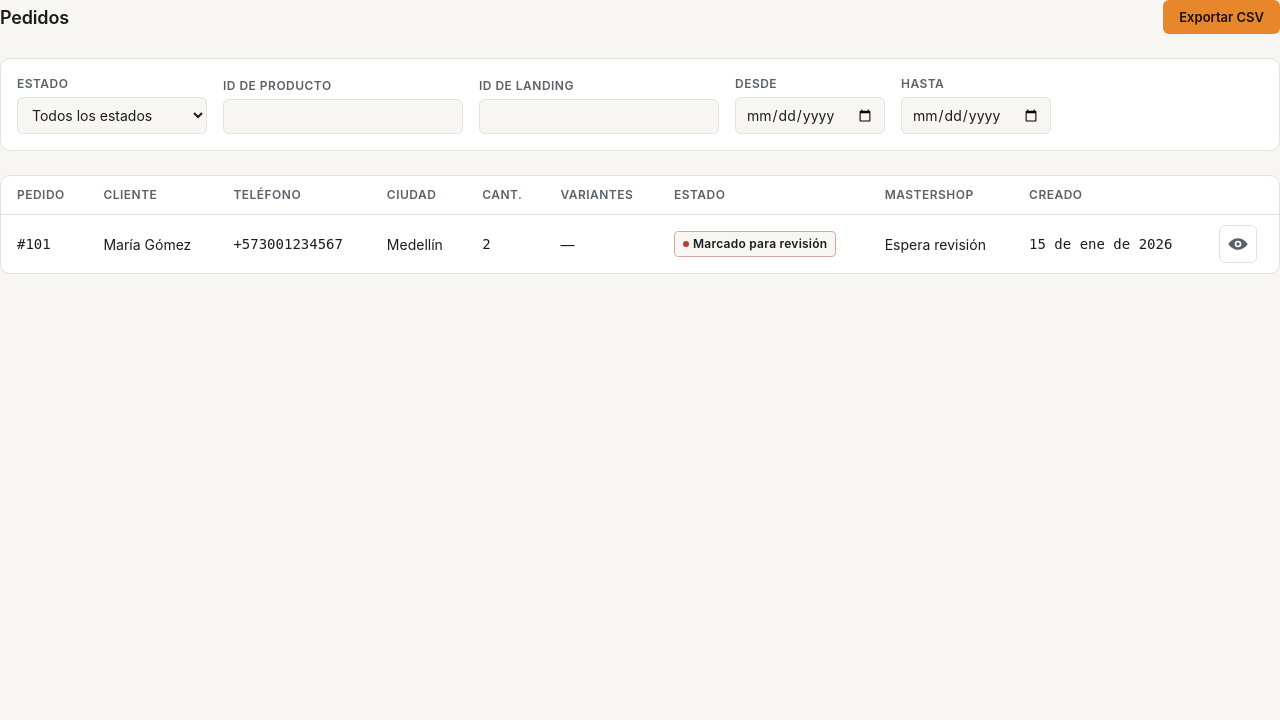
it: OrdersPage › approves a fraud-flagged order and exposes retry when synchronization fails
The width and height of the screenshot is (1280, 720).
Check: the text "María Gómez" is shown, box [88,214,218,273]
Click the button named "Ver todos los detalles del pedido #101" at x=1238, y=244, box [1219,225,1257,263]
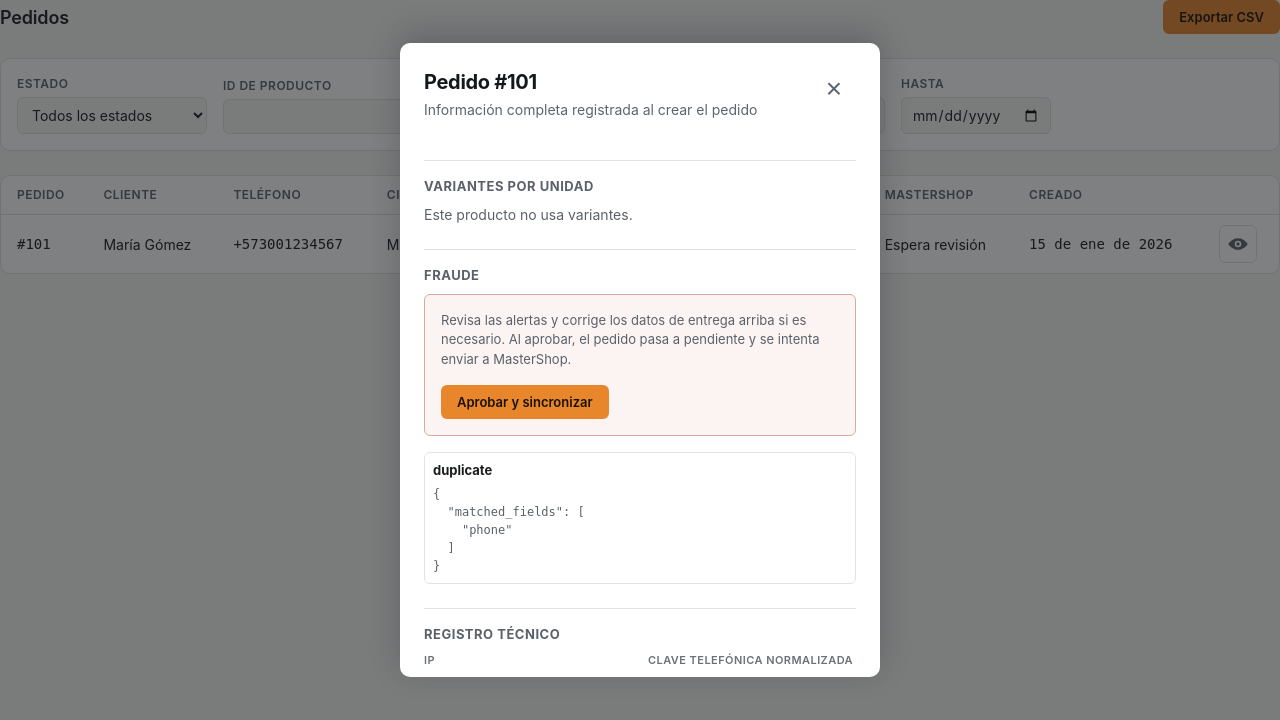
Click the button "Aprobar y sincronizar" at x=525, y=402, box [441,385,609,419]
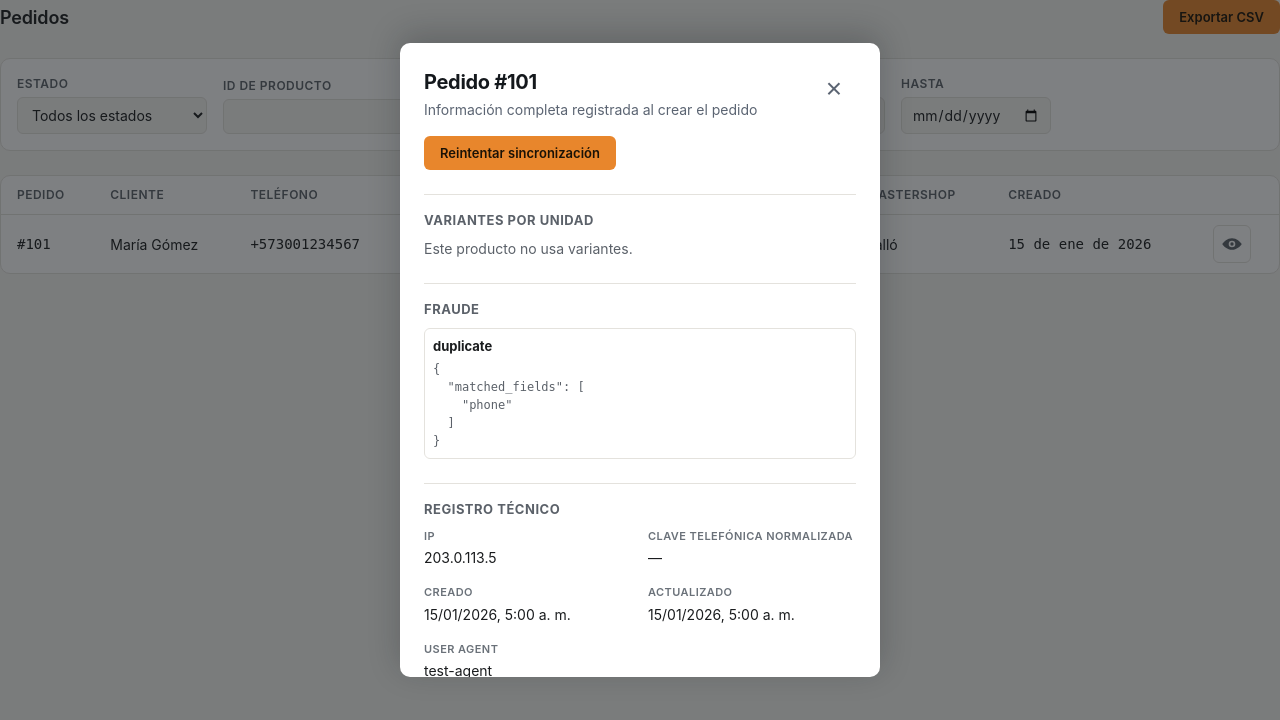
Check: the button "Reintentar sincronización" is shown, box [424,136,616,170]
